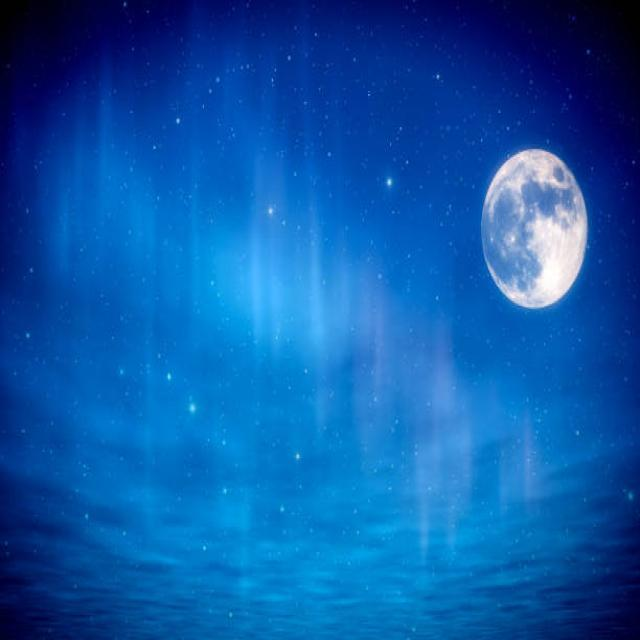moon: (480, 150, 587, 310)
